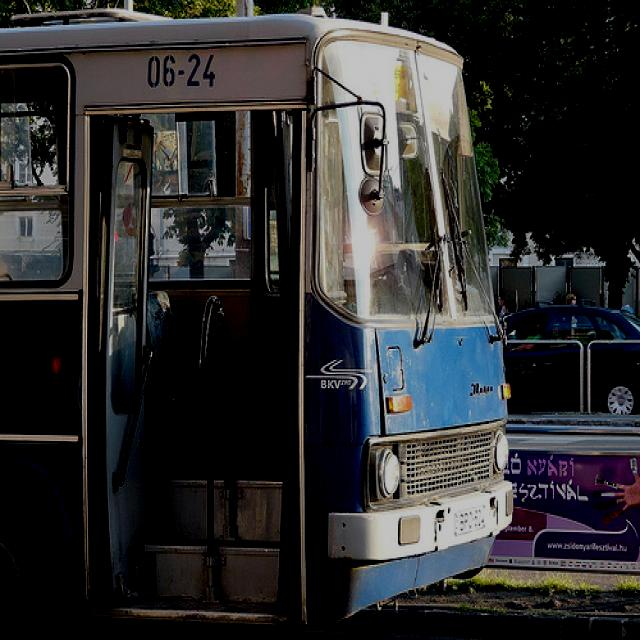bus: (1, 8, 516, 639)
